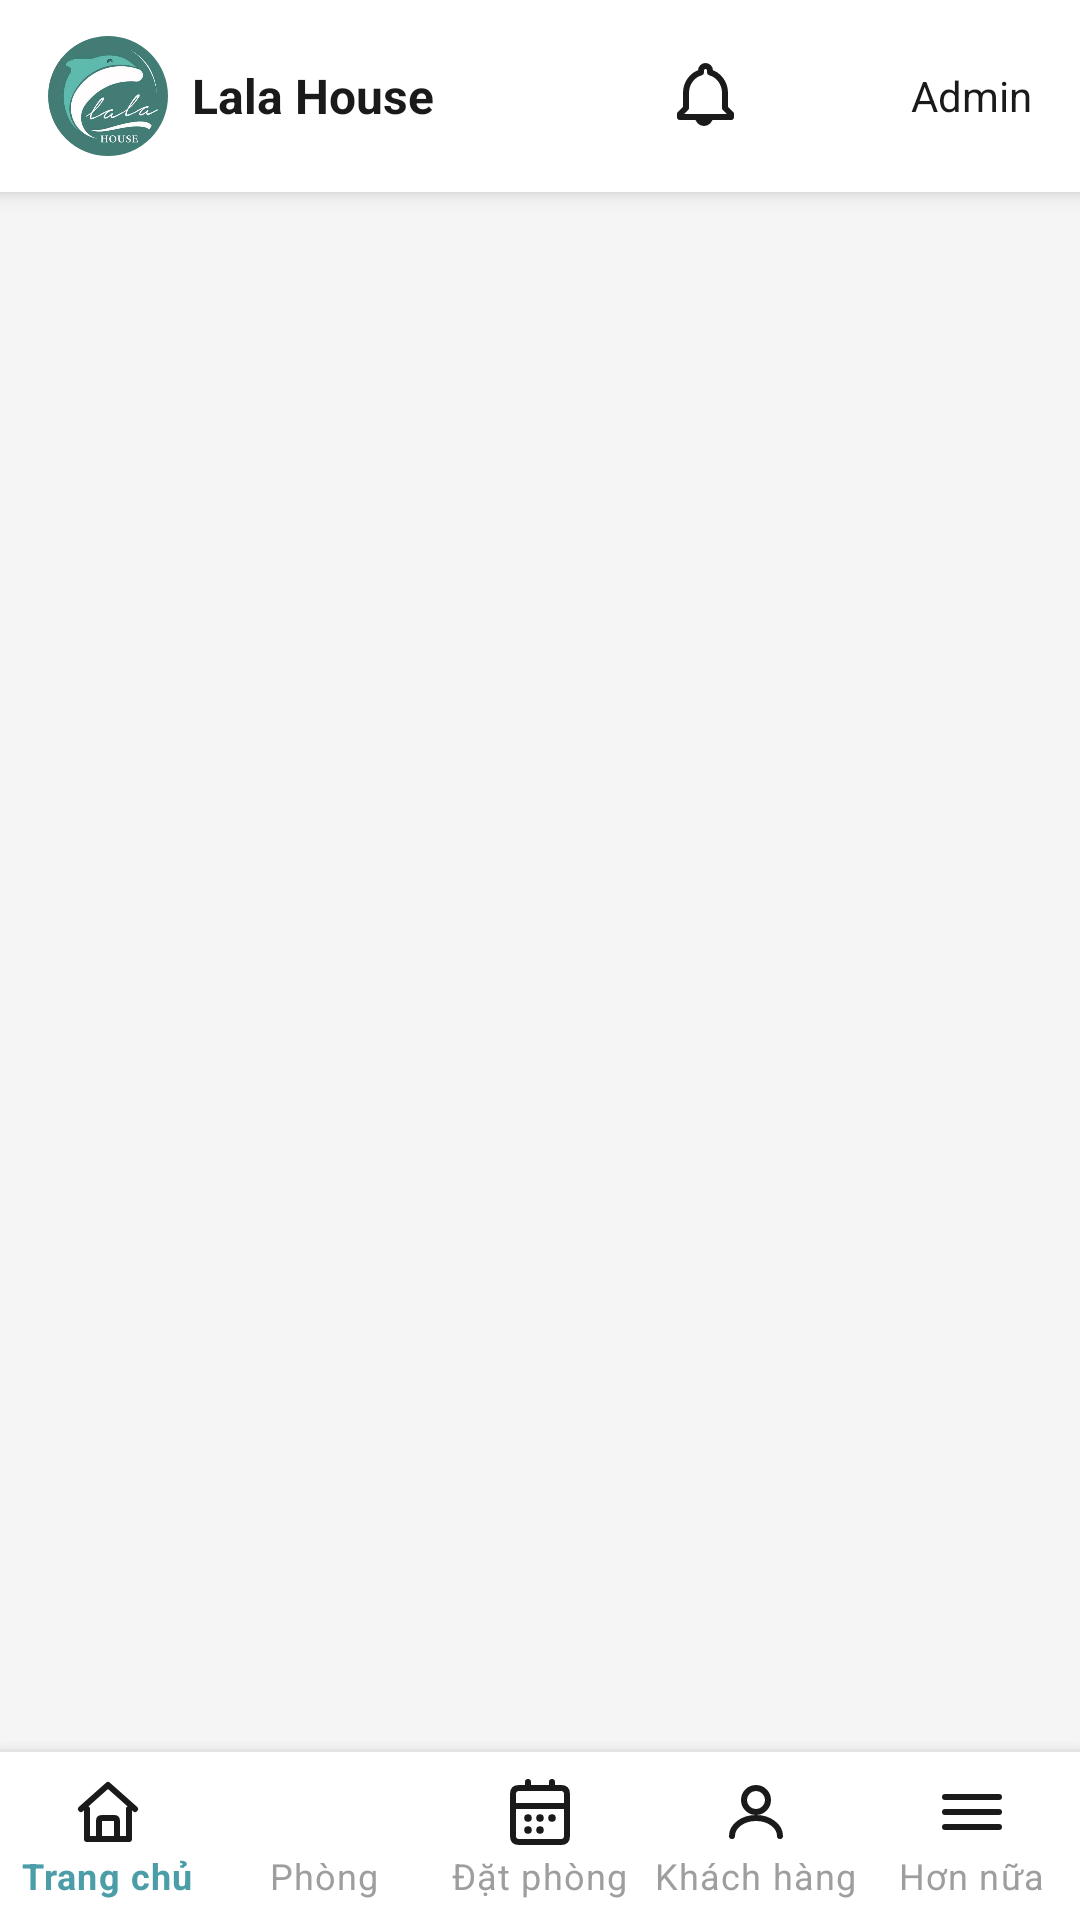

Named icons in this screenshot (1080w x 1920h) and their centers, [x,y]:
Thông báo: [705,94]
